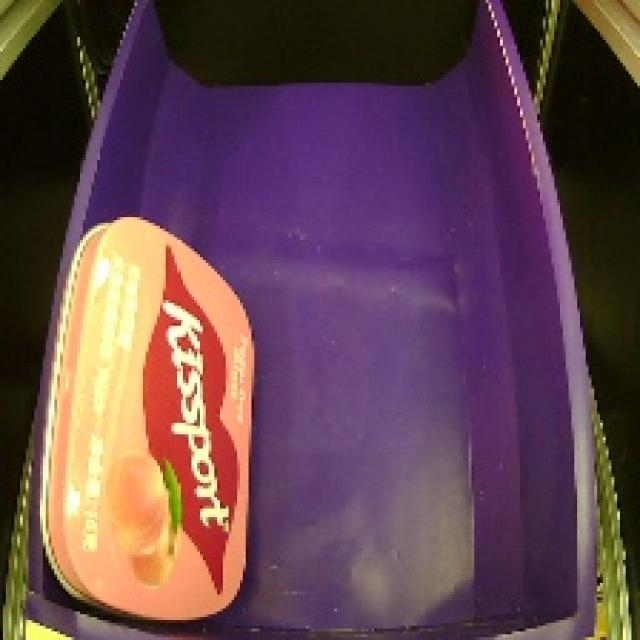metal: (26, 208, 267, 632)
